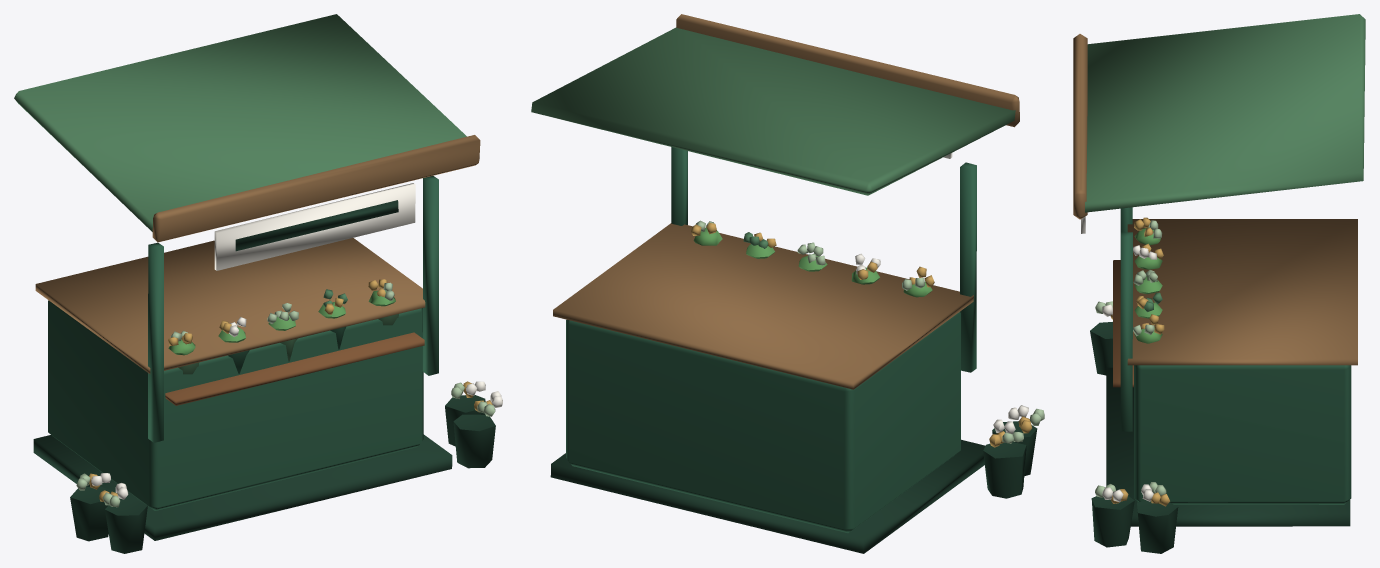
The model's file is flower_kiosk.glb.
The picture shows the model from 3 angles, left to right: view 1: azimuth 30°, elevation 25°; view 2: azimuth 150°, elevation 25°; view 3: azimuth 270°, elevation 25°; orthographic projection. The views are drawn at different scales.
Visible parts, largest first — view 1: flower_kiosk; view 2: flower_kiosk; view 3: flower_kiosk.
Part boxes in pixels (bbox=[...]): flower_kiosk: bbox=[14, 14, 502, 553]; flower_kiosk: bbox=[531, 14, 1044, 553]; flower_kiosk: bbox=[1073, 14, 1365, 553].
Bounding box in the file's own units: 3.3 × 2.77 × 2.02.
